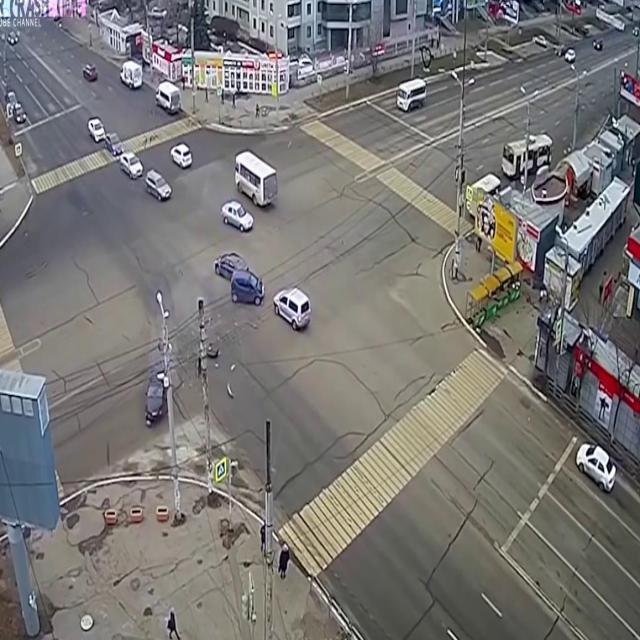accident: (142, 248, 268, 436)
non_accident: (86, 110, 176, 208), (218, 147, 282, 243)
